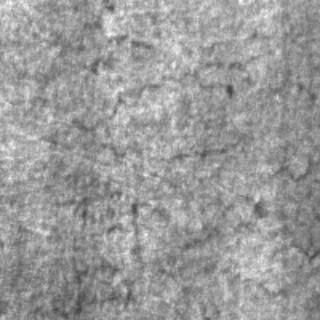crazing: (42, 24, 266, 102), (42, 72, 236, 160)
